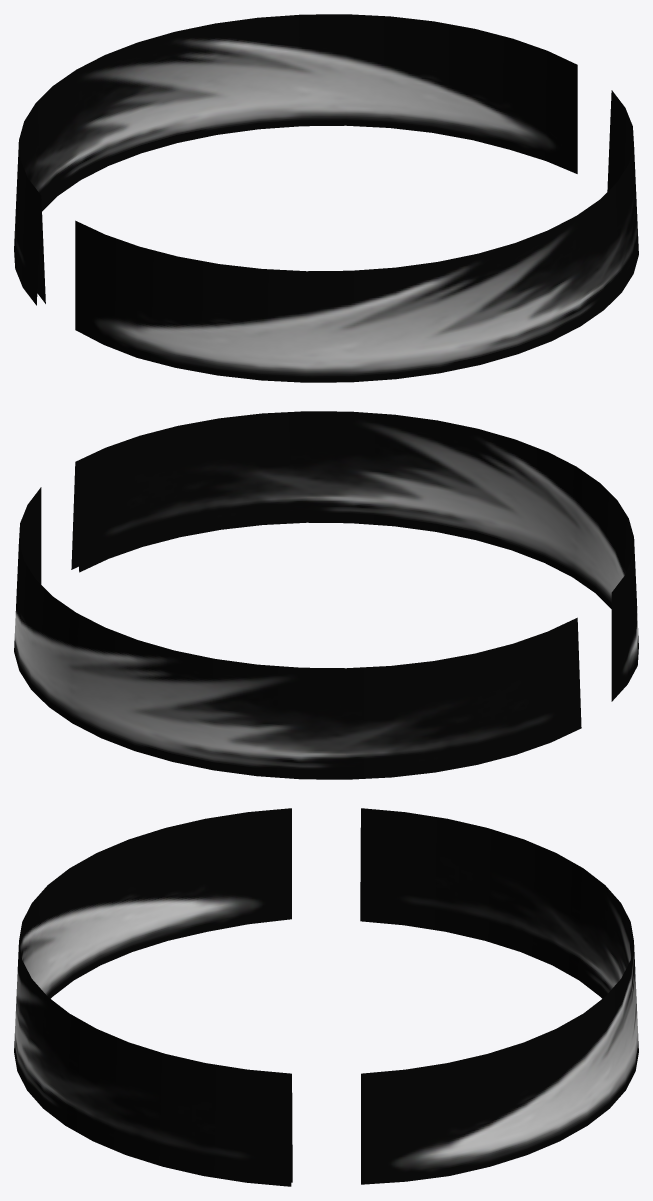
Rendered from mesh_fx_shock_wave_around.FBX.
3 renders of one model, top to bottom at view 1: azimuth 30°, elevation 25°; view 2: azimuth 150°, elevation 25°; view 3: azimuth 270°, elevation 25°, orthographic.
Visible parts, largest first — view 1: mesh_shockwave_around; view 2: mesh_shockwave_around; view 3: mesh_shockwave_around.
Boxes of the visible parts, x1,y1,x2,y2 form: mesh_shockwave_around: (14, 14, 638, 382); mesh_shockwave_around: (14, 411, 638, 779); mesh_shockwave_around: (14, 808, 638, 1186).
Bounding box in the file's own units: 51.08 × 9.81 × 50.03.
